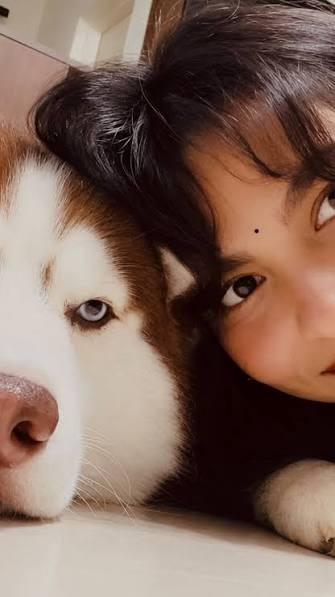adult_dog: (0, 129, 335, 554)
non-dog: (30, 1, 335, 405)
